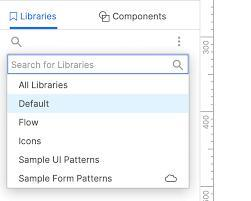button: (8, 95, 190, 113)
icon: (164, 173, 181, 184), (11, 36, 23, 49), (99, 11, 111, 24), (10, 11, 19, 23), (176, 36, 183, 49)
input: (8, 55, 190, 75)
label: (19, 154, 102, 167), (18, 175, 115, 185), (114, 11, 169, 22), (19, 80, 69, 91), (18, 136, 44, 147), (18, 118, 42, 129)
